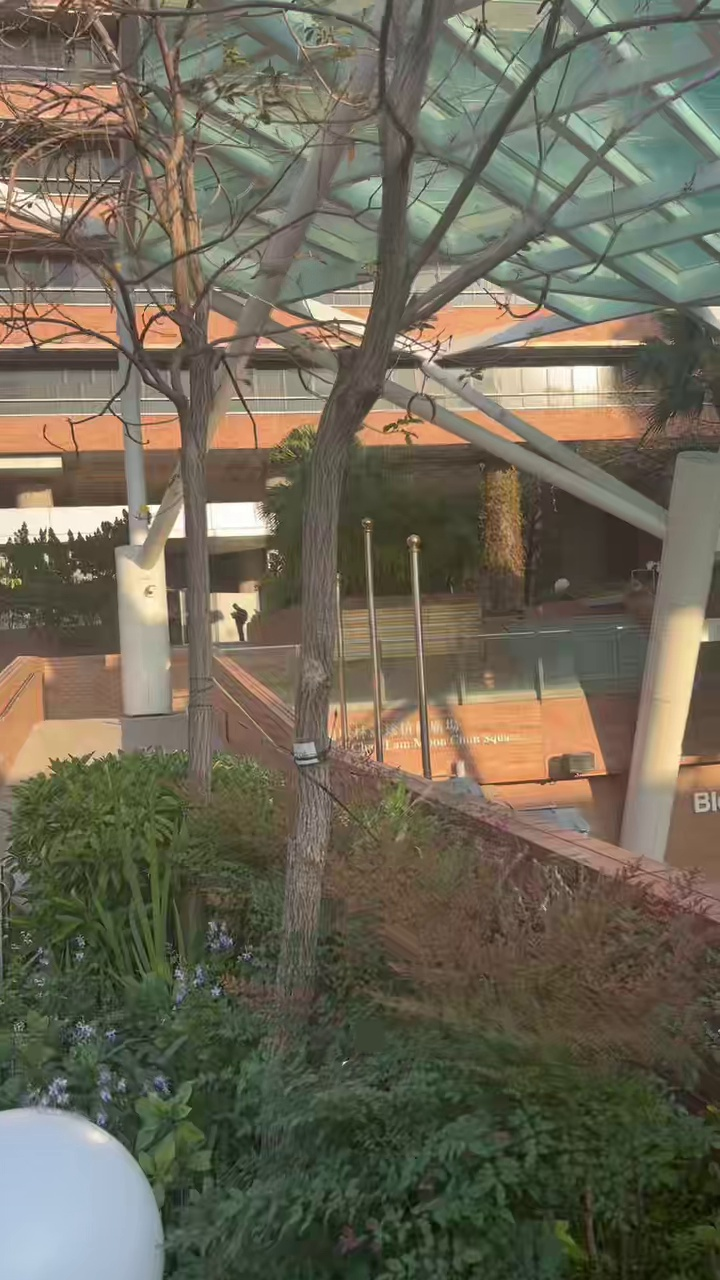Tabebuia chrysantha: (277, 0, 652, 997)
